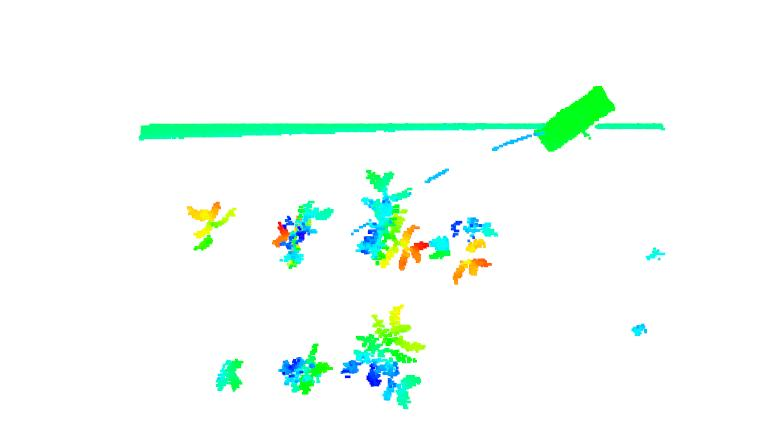chickpea: (340, 303, 425, 410), (356, 169, 428, 273), (426, 215, 499, 283), (269, 199, 334, 270), (276, 343, 335, 400), (184, 199, 237, 252), (214, 357, 248, 394)
